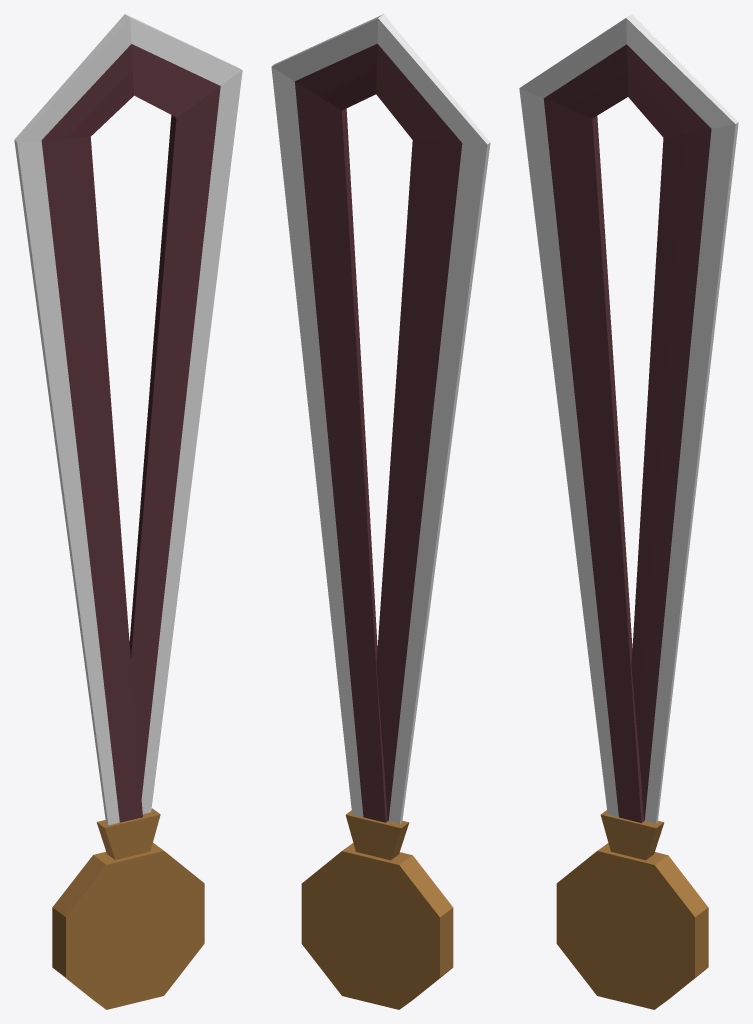
Rendered from furniture-medal-tricolor-gold.glb.
The picture shows the model from 3 angles, left to right: view 1: azimuth 30°, elevation 25°; view 2: azimuth 150°, elevation 25°; view 3: azimuth 330°, elevation 25°; orthographic projection.
Parts seen in each view (by area): view 1: medal-tricolor-gold; view 2: medal-tricolor-gold; view 3: medal-tricolor-gold.
Part boxes in pixels (x1,y1,x2,y2): medal-tricolor-gold: [14, 14, 242, 1009]; medal-tricolor-gold: [271, 14, 490, 1009]; medal-tricolor-gold: [519, 14, 738, 1009].
Bounding box in the file's own units: 0.0736 × 0.3131 × 0.0088.
